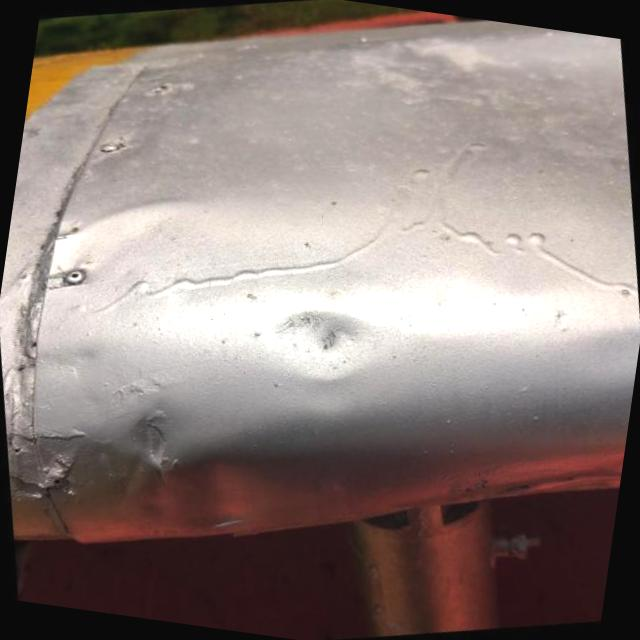dent: (72, 394, 332, 572), (233, 252, 418, 424)
